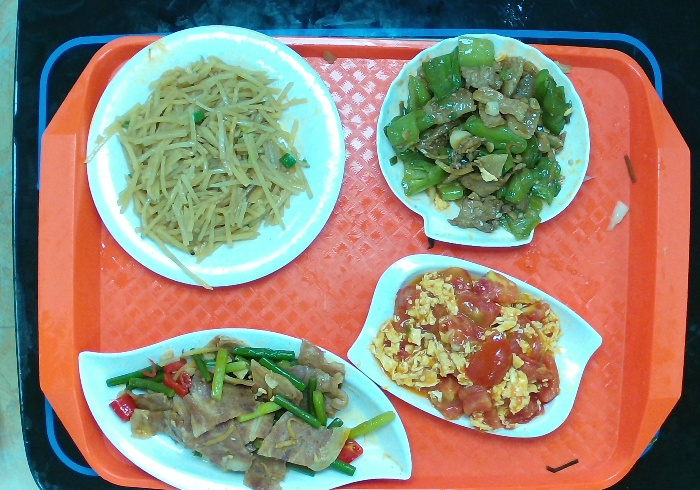RJxy-Bei_Ke_Wan: (374, 27, 597, 260)
RJxy-Jian_Jiao_Fang_Die: (343, 249, 608, 448)
RJxy-Jian_Jiao_Pan: (71, 325, 418, 487)
RJxy-Yuan_Pan: (79, 19, 350, 298)
